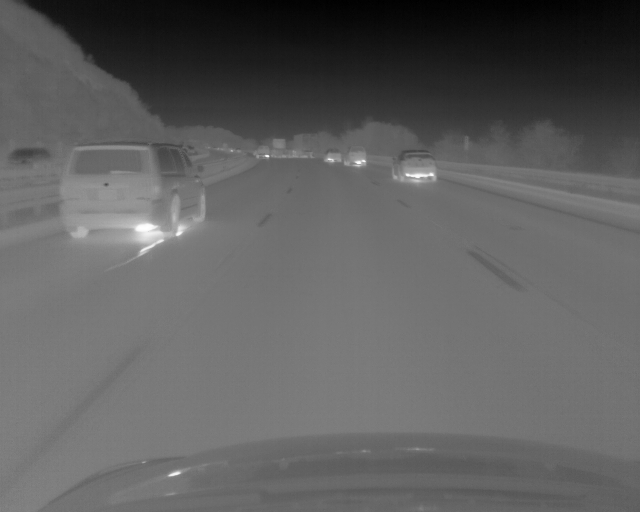car: (58, 141, 206, 238), (391, 150, 438, 183), (270, 137, 313, 158), (343, 146, 366, 166), (324, 149, 340, 162), (256, 146, 268, 158)
